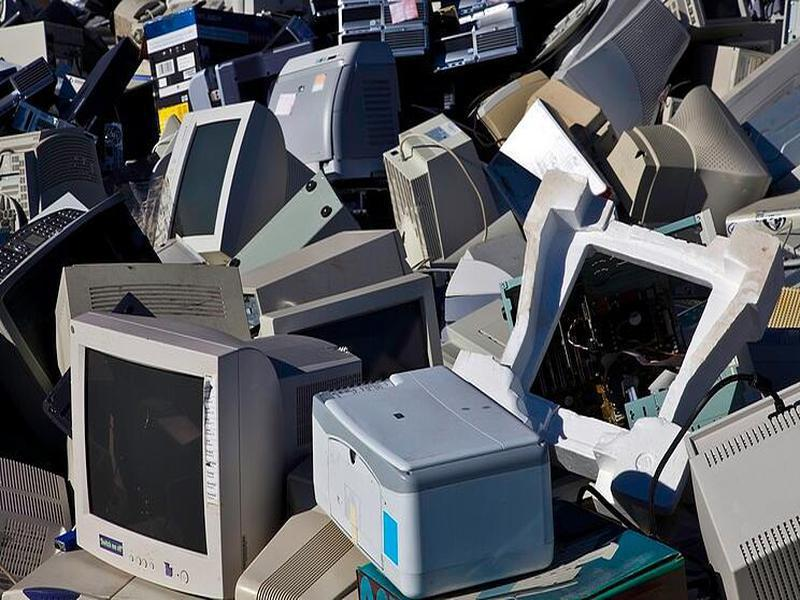keyboard: (1, 205, 87, 287)
printer: (306, 365, 562, 600)
tv_pc: (56, 310, 366, 600), (145, 102, 317, 261), (604, 81, 775, 234), (552, 1, 692, 135)
